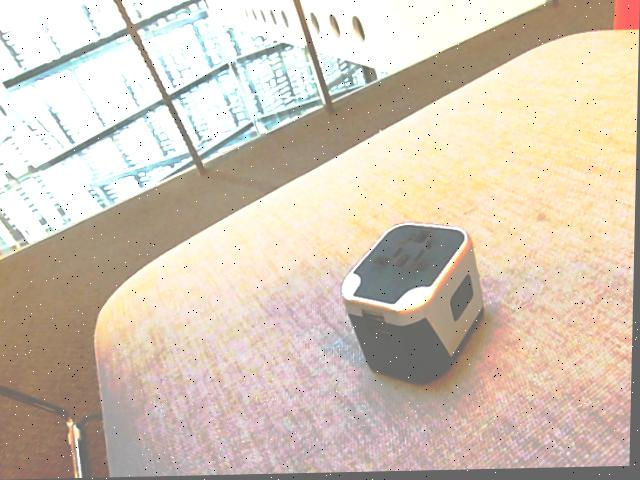adapter: (340, 221, 487, 388)
